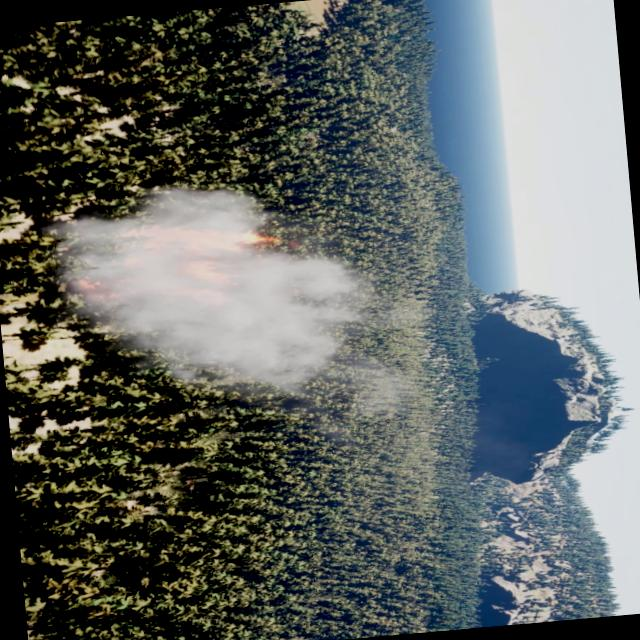fire: (66, 210, 303, 320)
smoke: (39, 165, 410, 438)
